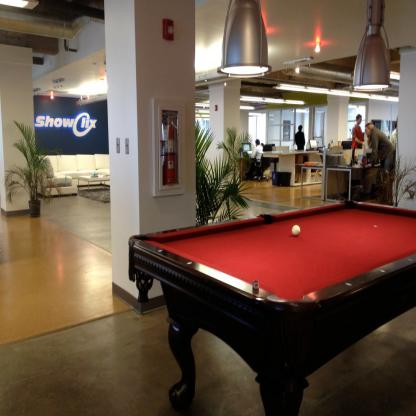Ball: (292, 226, 300, 237)
